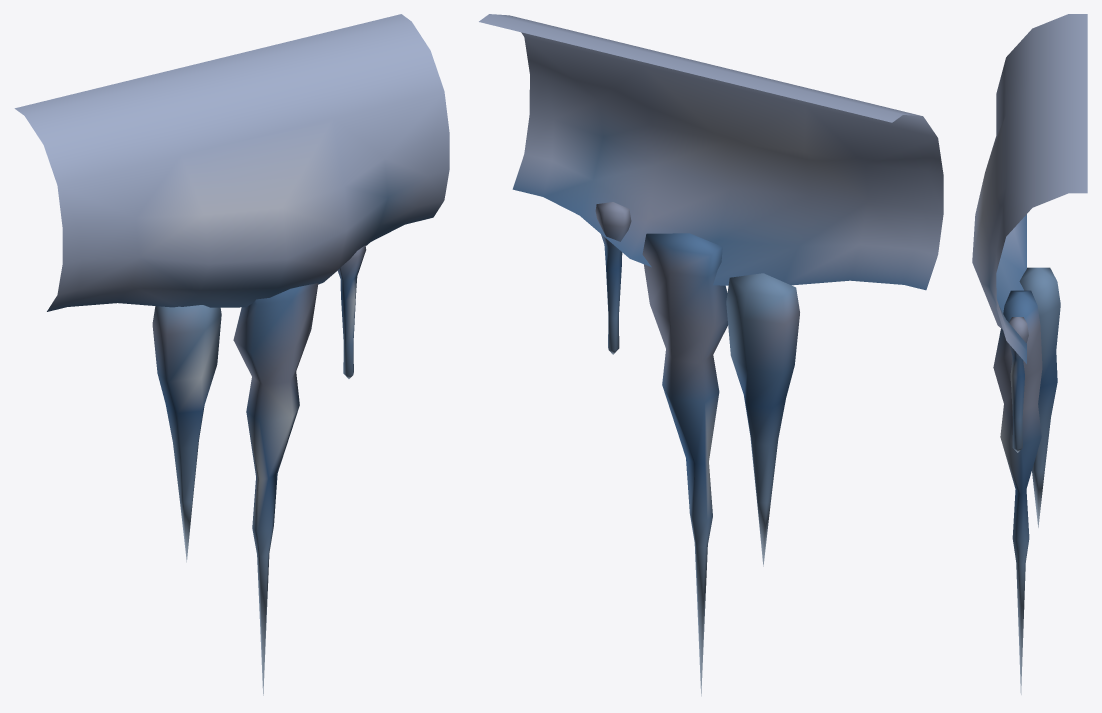
Rendered from Surface_FrontUp01.fbx.
3 renders of one model, left to right at view 1: azimuth 30°, elevation 25°; view 2: azimuth 150°, elevation 25°; view 3: azimuth 270°, elevation 25°, orthographic. The views are drawn at different scales.
Visible parts, largest first — view 1: Surface_FrontUp01; view 2: Surface_FrontUp01; view 3: Surface_FrontUp01.
Boxes of the visible parts, <box> form: Surface_FrontUp01: <box>14,14,449,695</box>; Surface_FrontUp01: <box>479,14,943,696</box>; Surface_FrontUp01: <box>972,14,1087,694</box>.
Size of the model in its own units: 2000 by 3046 by 545.
